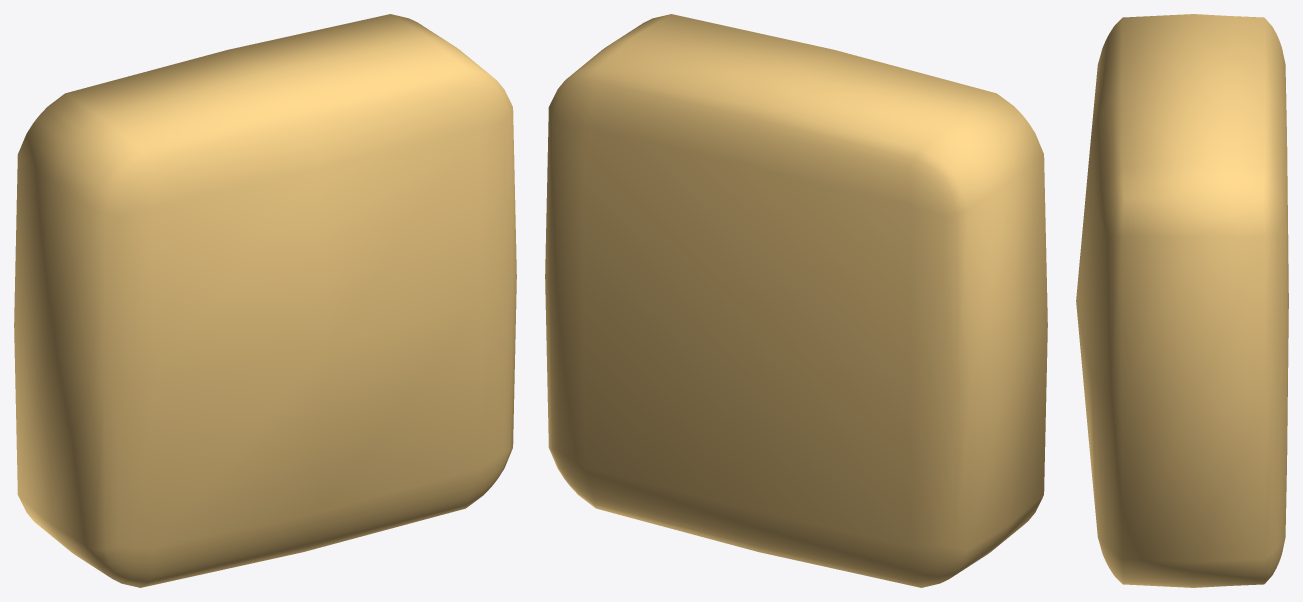
The model's file is RoundedBlock.gltf.
The picture shows the model from 3 angles, left to right: view 1: azimuth 30°, elevation 25°; view 2: azimuth 150°, elevation 25°; view 3: azimuth 270°, elevation 25°; orthographic projection. The views are drawn at different scales.
Visible parts, largest first — view 1: RoundedBlock; view 2: RoundedBlock; view 3: RoundedBlock.
Boxes of the visible parts, x1,y1,x2,y2 form: RoundedBlock: [14, 14, 516, 587]; RoundedBlock: [545, 14, 1047, 587]; RoundedBlock: [1076, 14, 1288, 587].
Bounding box in the file's own units: 1 × 1 × 0.448.
